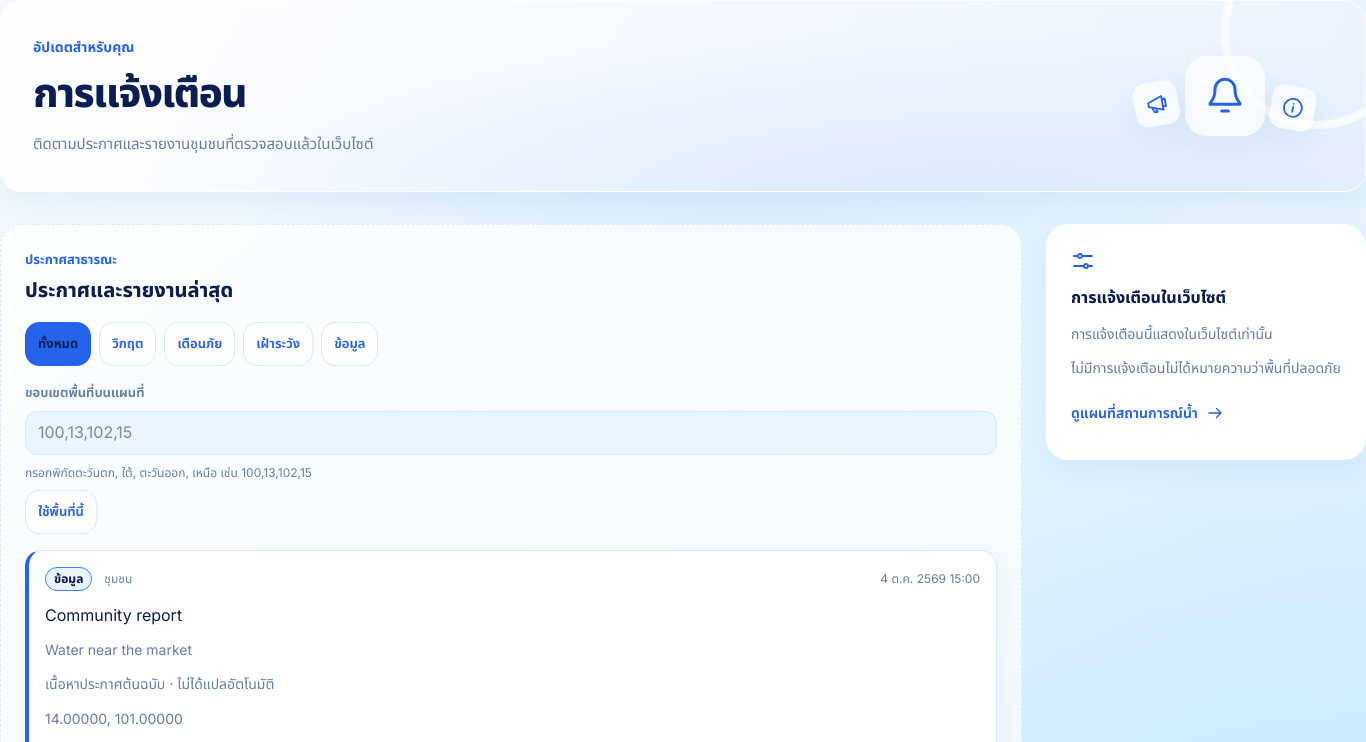
Test: NotificationsPage public feed › keeps the area controls available when the selected bbox is empty and can clear it
Expected: the link "Community report" is shown, [45, 605, 182, 625]
Step 1. Type "102,15,103,16" into the field labelled "ขอบเขตพื้นที่บนแผนที่" → x=511, y=433, box [25, 411, 997, 455]
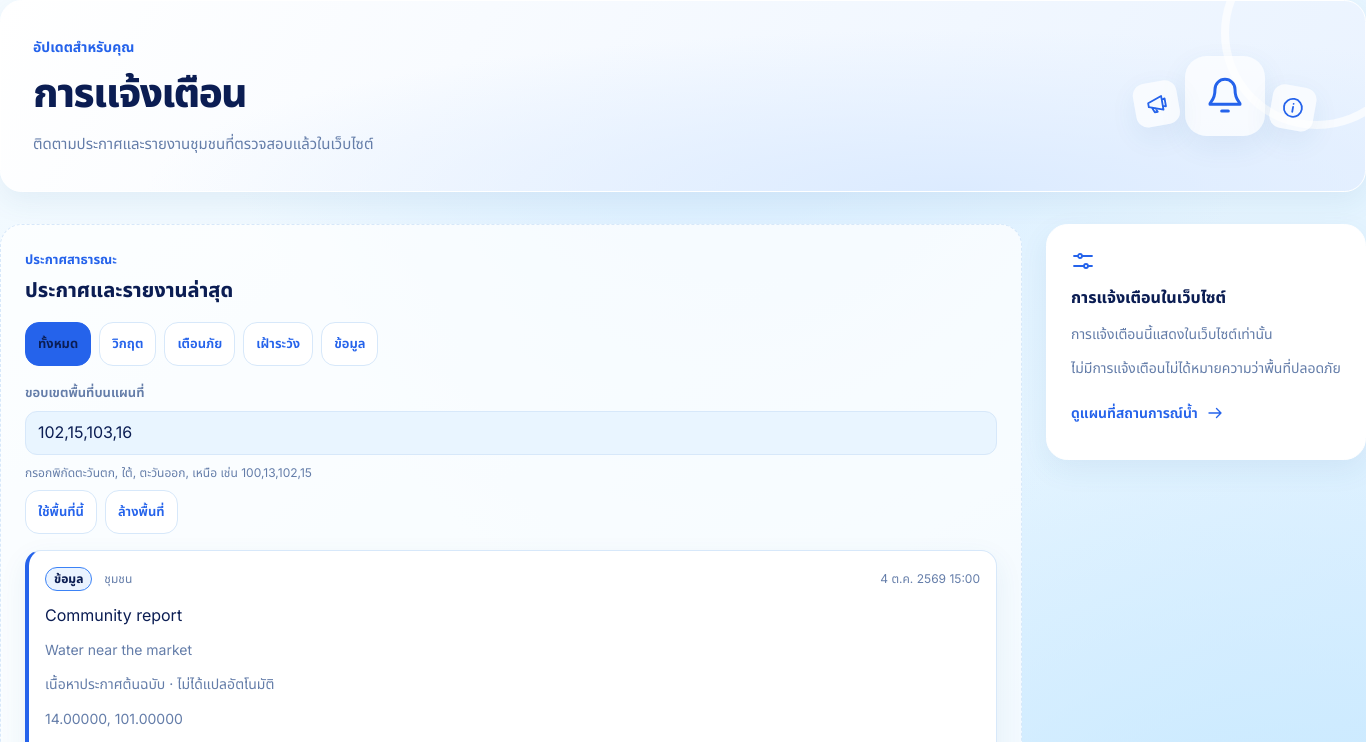
Step 2. Click the button "ใช้พื้นที่นี้" → x=61, y=512, box [25, 490, 97, 534]
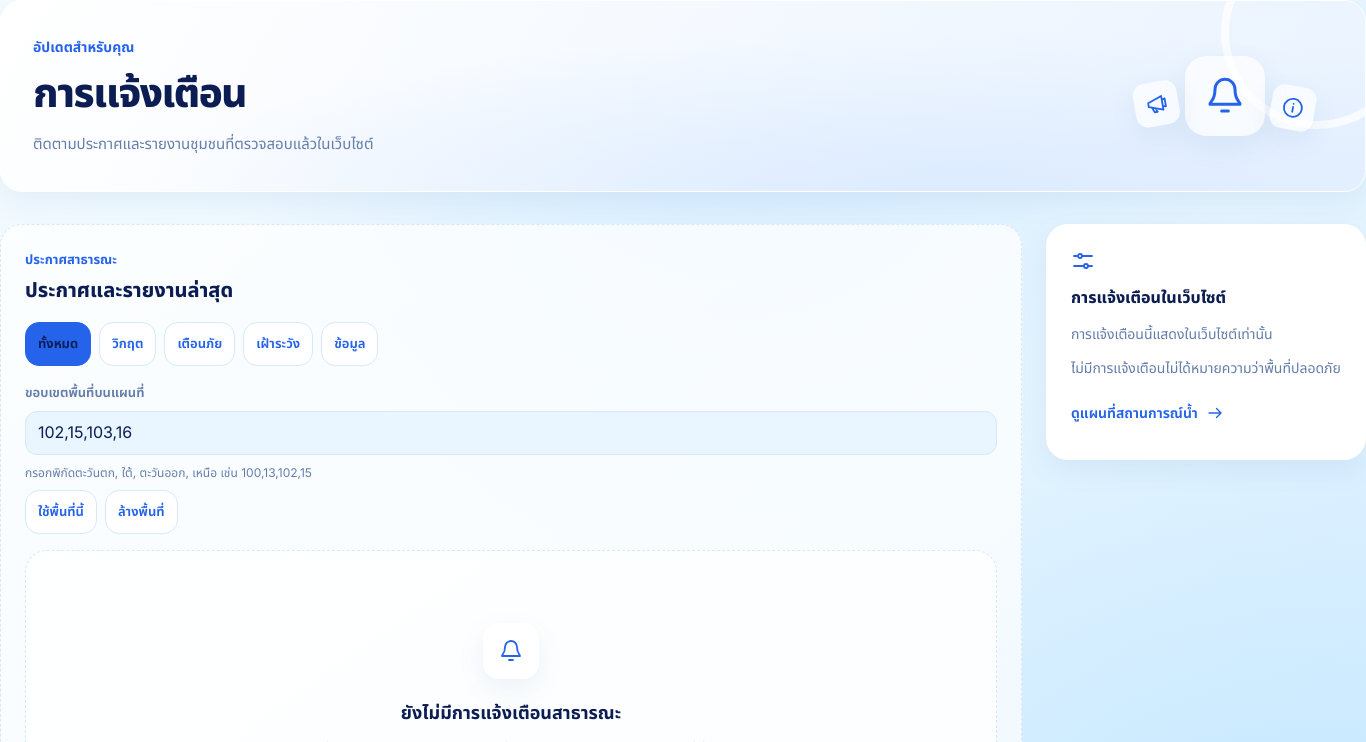
Expected: the heading "ยังไม่มีการแจ้งเตือนสาธารณะ" is shown, [401, 699, 621, 728]
Step 3. Click the button "ล้างพื้นที่" → x=141, y=512, box [105, 490, 178, 534]
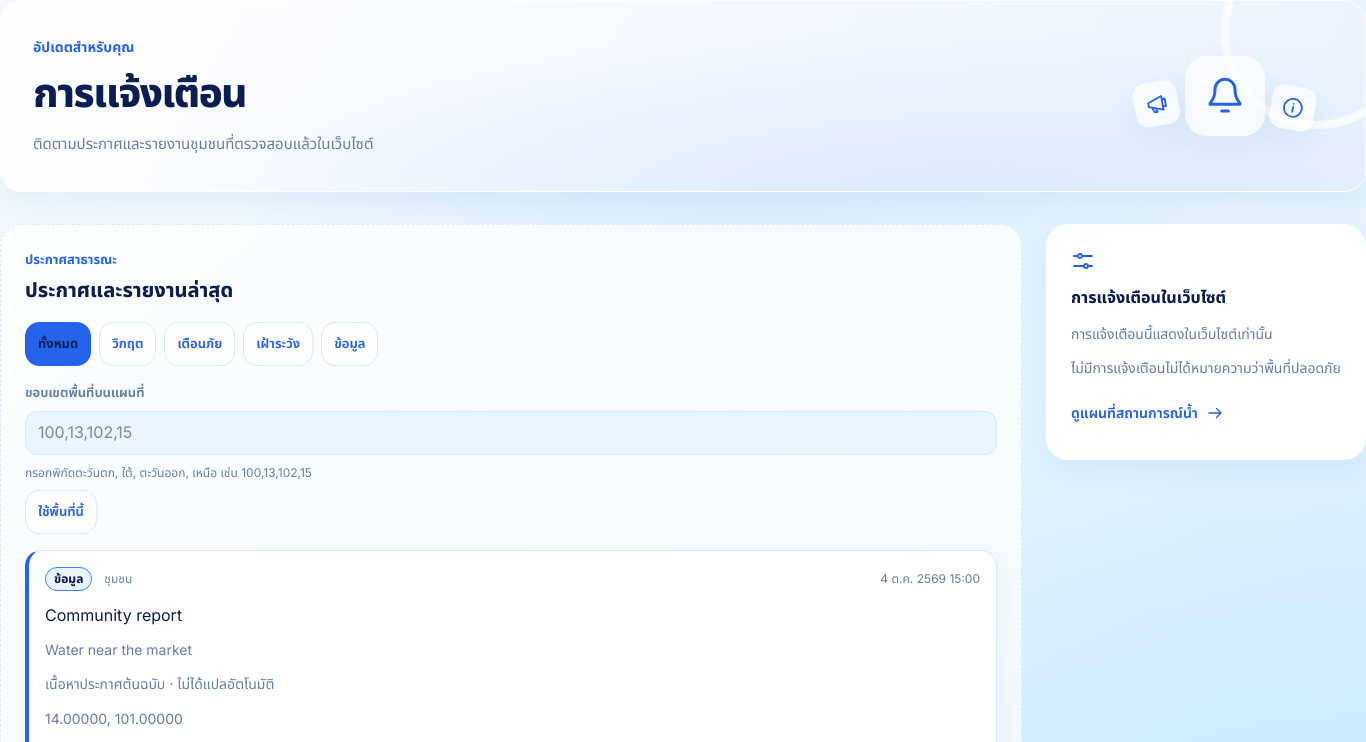
Expected: the link "Community report" is shown, [45, 605, 182, 625]
